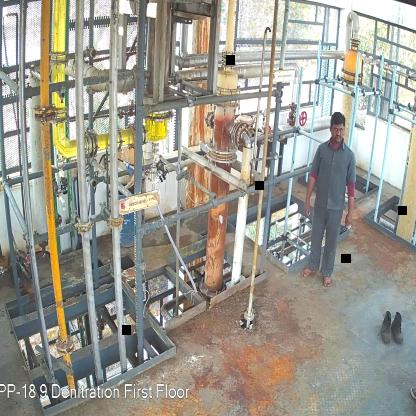no_shoes: (300, 267, 318, 278), (320, 275, 332, 290)
shoes: (379, 309, 396, 345), (392, 312, 405, 343)
